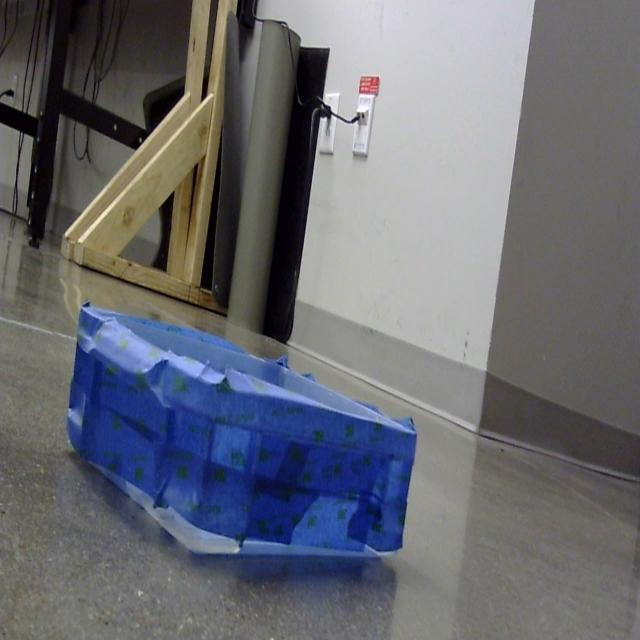bucket: (65, 304, 418, 563)
